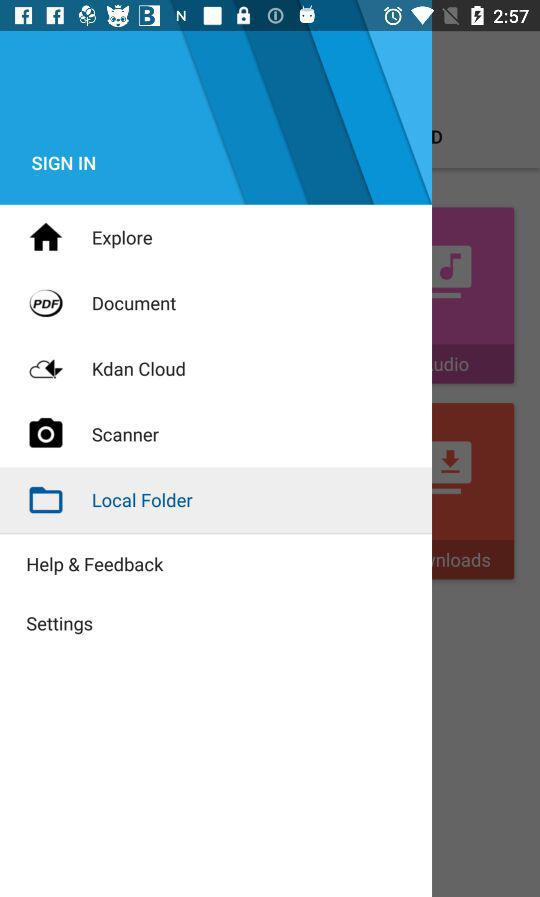Drawer: (1, 32, 433, 897)
Icon: (30, 223, 64, 253), (29, 486, 64, 514), (30, 290, 65, 318), (29, 359, 65, 380)
Image: (29, 418, 64, 449)
Text: (27, 556, 165, 576), (93, 492, 194, 509), (93, 361, 187, 378), (26, 616, 94, 635), (93, 297, 178, 312), (93, 230, 154, 250), (92, 427, 161, 443), (32, 156, 97, 172)
UpperTaskBar: (1, 1, 540, 33)
